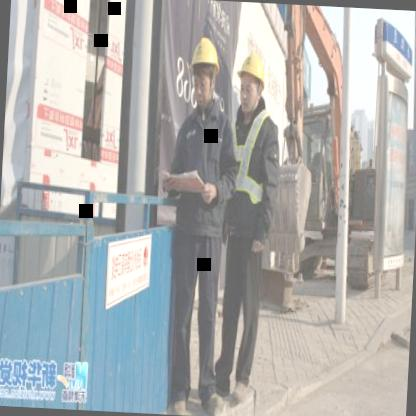helmet: (188, 28, 223, 108), (234, 44, 271, 116)
